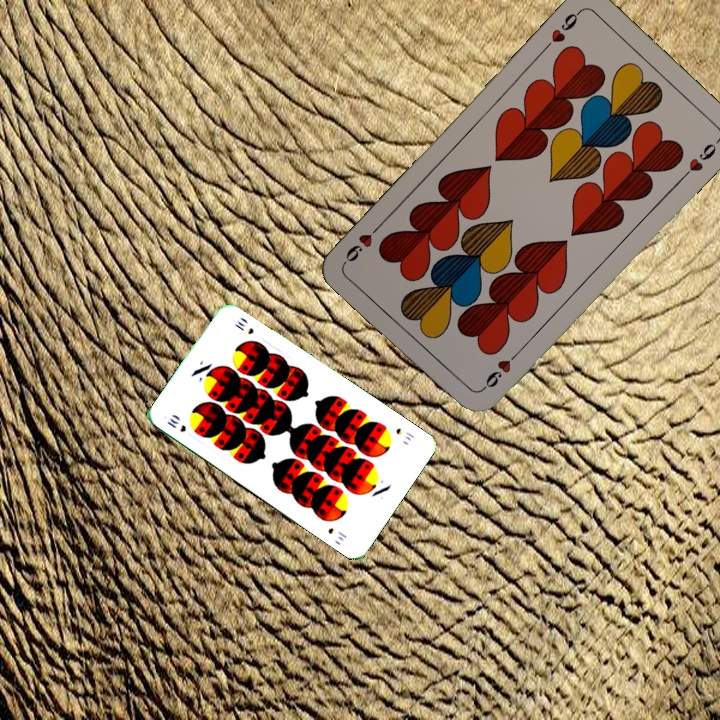H9: (477, 346, 523, 393), (539, 6, 584, 54)
S10: (163, 414, 189, 435), (392, 424, 417, 444)
